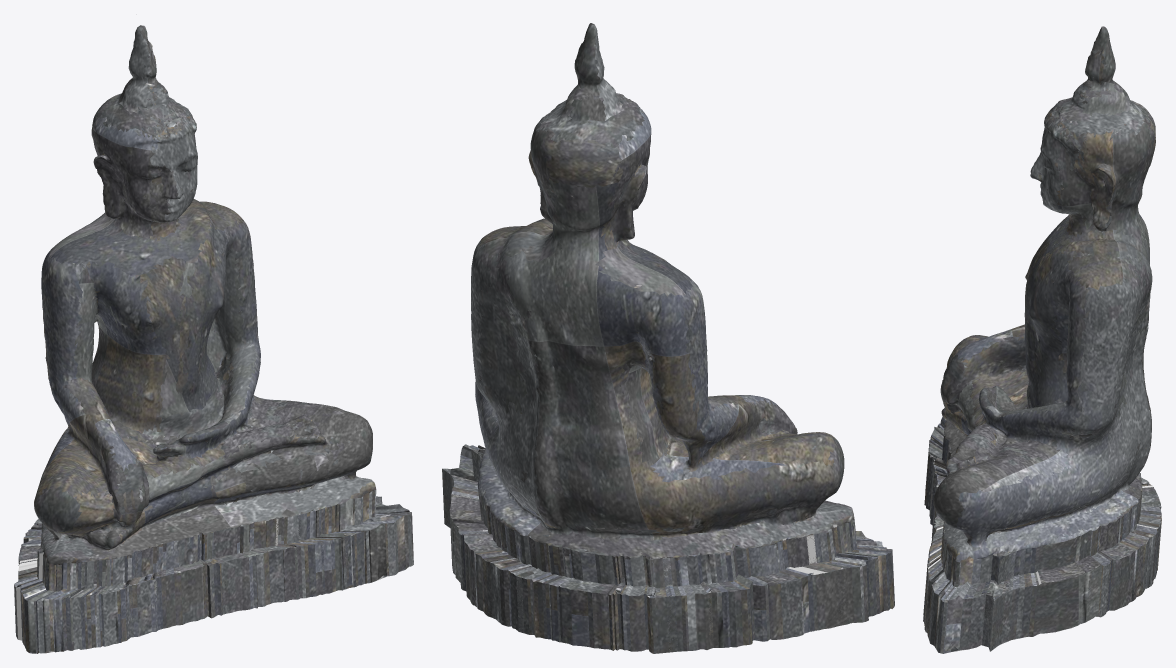
Rendered from md_namo_buddah.gltf.
3 renders of one model, left to right at view 1: azimuth 30°, elevation 25°; view 2: azimuth 150°, elevation 25°; view 3: azimuth 270°, elevation 25°, orthographic. The views are drawn at different scales.
Visible parts, largest first — view 1: meshNode; view 2: meshNode; view 3: meshNode.
Boxes of the visible parts, box(x1,y1,x2,y2) form: meshNode: box(14, 25, 413, 653); meshNode: box(442, 23, 894, 653); meshNode: box(923, 26, 1161, 653).
Size of the model in its own units: 14.68 by 19.84 by 7.87.
Materials: 1 (1 with a texture image).
